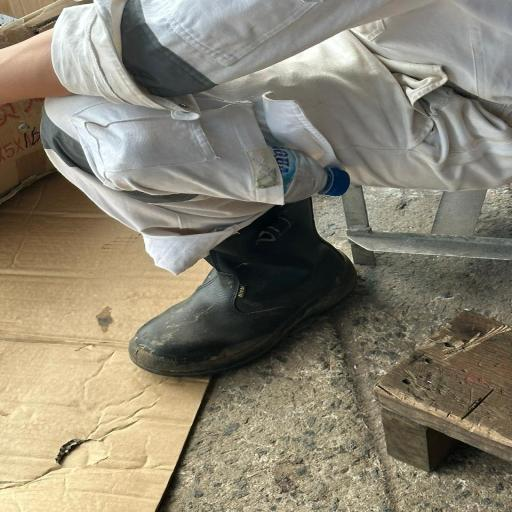safety_shoe: (110, 202, 384, 398)
